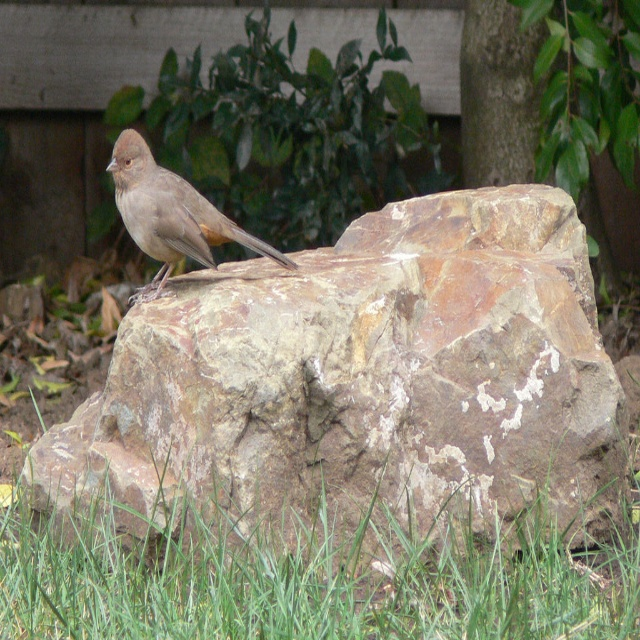Sparrow: (108, 129, 300, 301)
